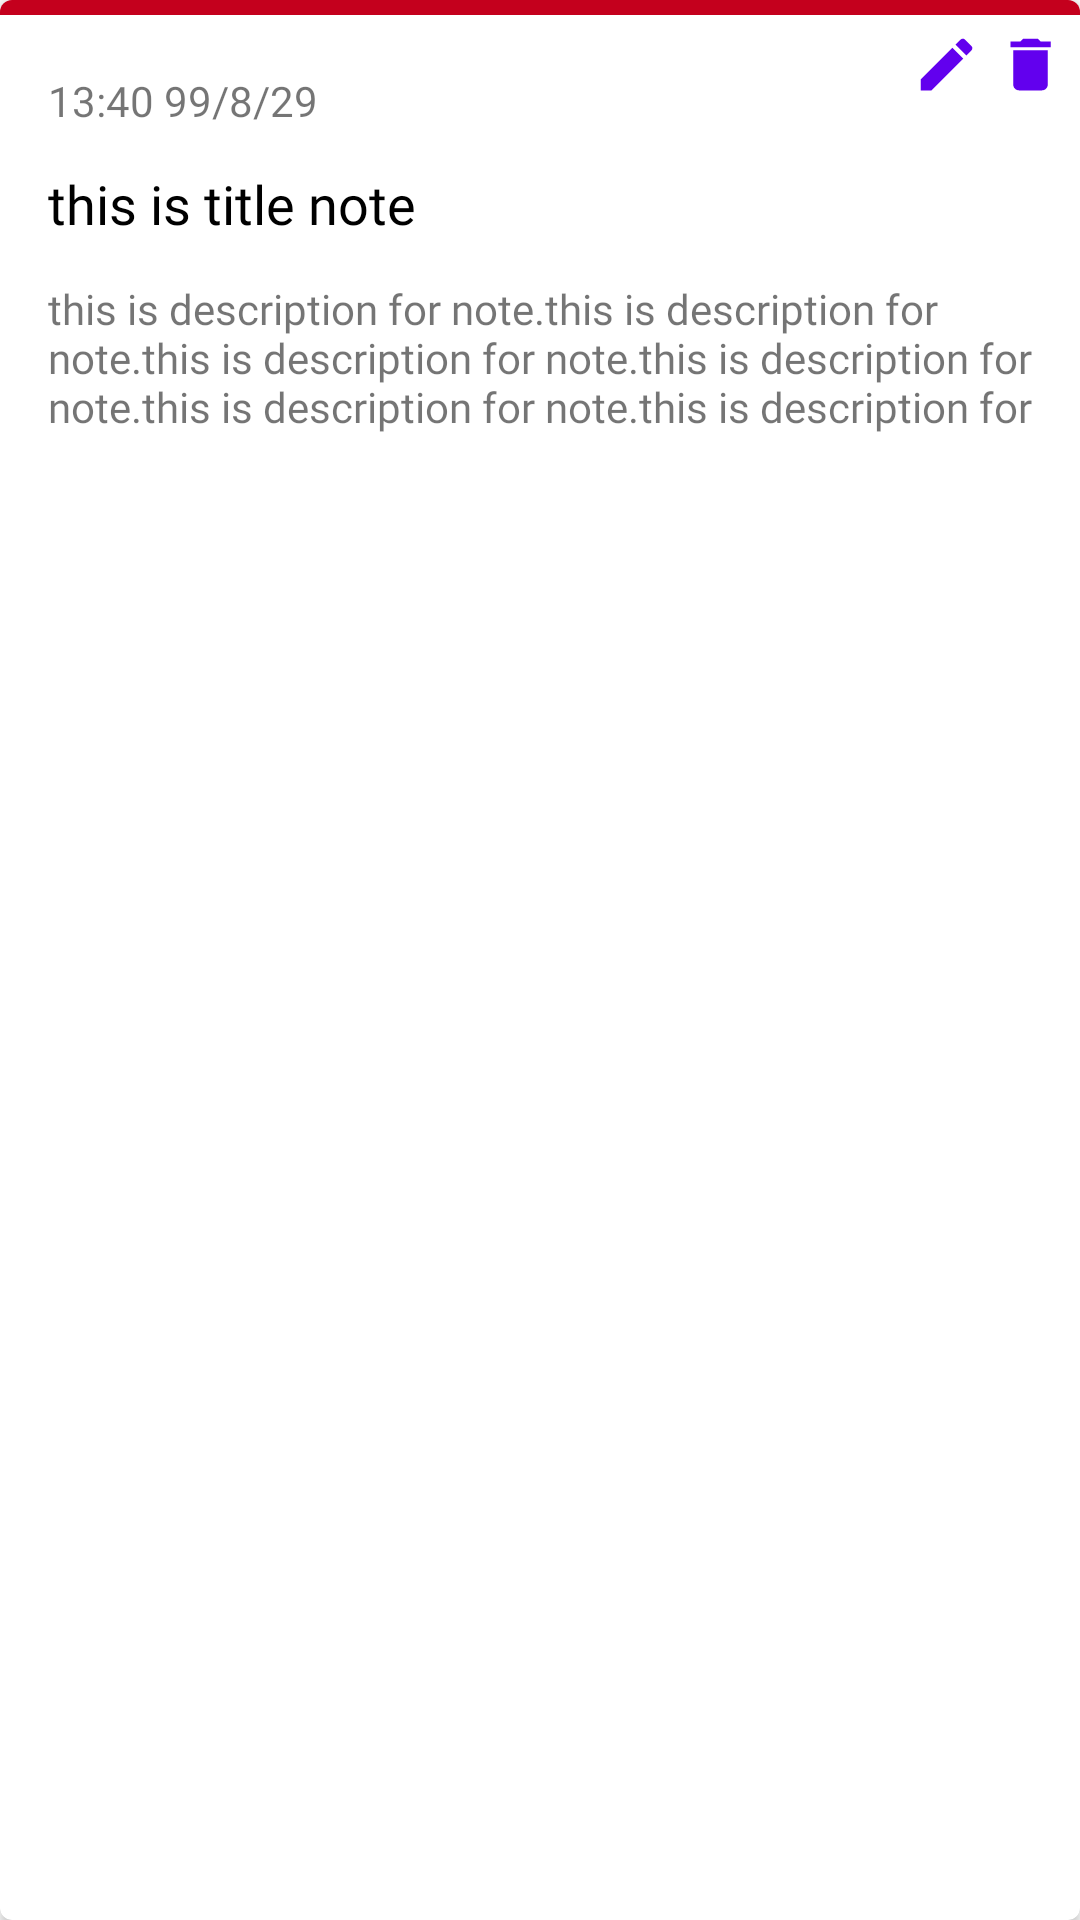

Icons on this 1080*1920 Android screen, each with the point to tap as point (x, y):
delete: point (1030, 64)
edit: point (946, 64)
